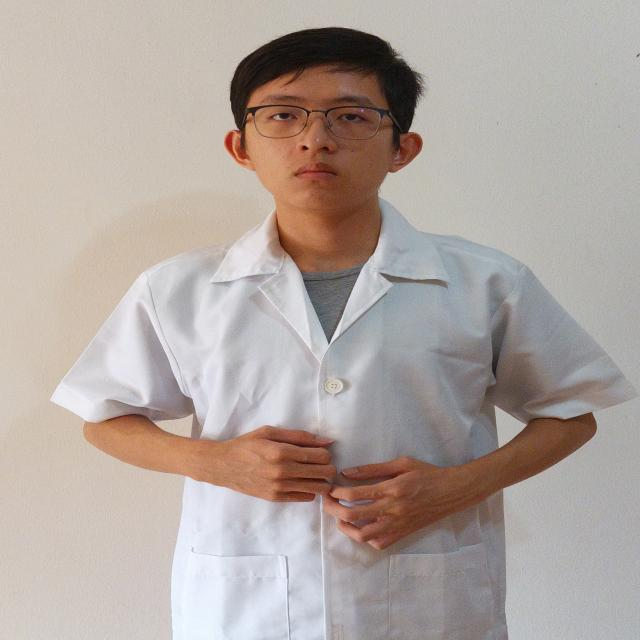person_with_labcoat: (53, 28, 635, 640)
